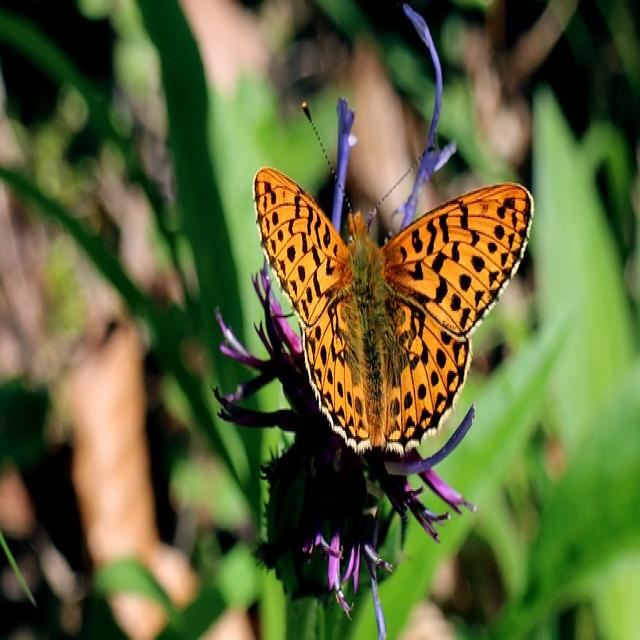butterfly: (254, 168, 532, 453)
